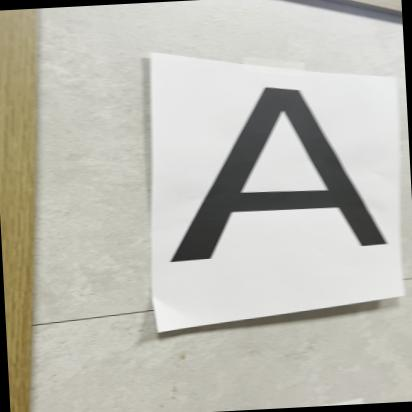seat: (151, 71, 402, 286)
